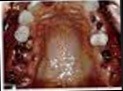Caries: (13, 44, 29, 64), (90, 14, 103, 31), (100, 49, 111, 61)
